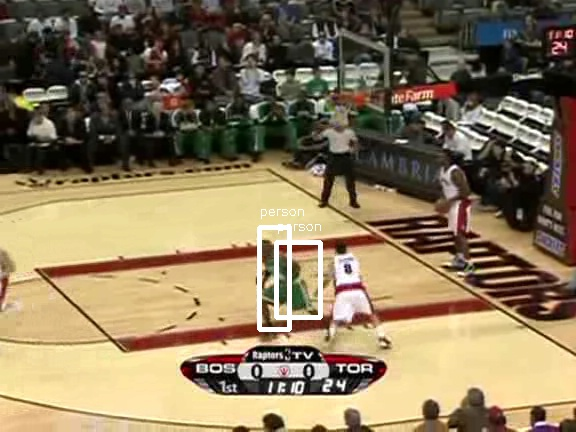person: (265, 242, 299, 323), (264, 242, 298, 323), (266, 242, 300, 323), (265, 241, 299, 322), (265, 243, 299, 324)
target_negative: (275, 50, 390, 362), (437, 50, 575, 142), (533, 107, 571, 251), (434, 376, 498, 415), (513, 275, 539, 359), (74, 201, 485, 202)
